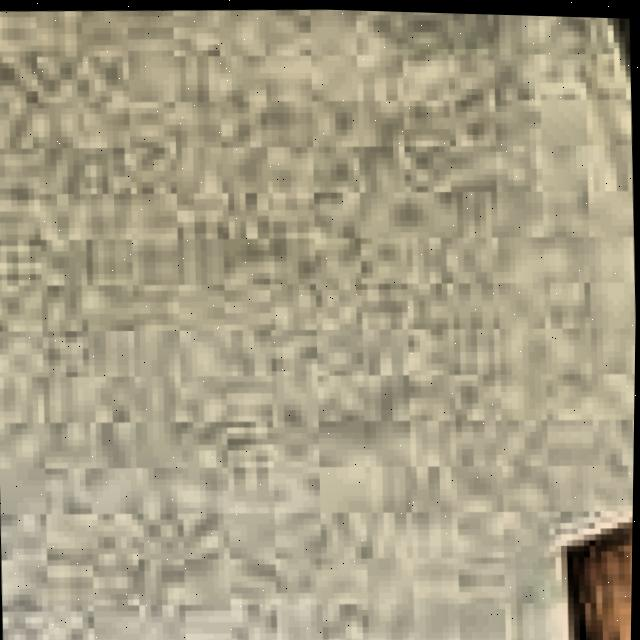paper: (0, 7, 636, 640), (0, 7, 566, 640)
